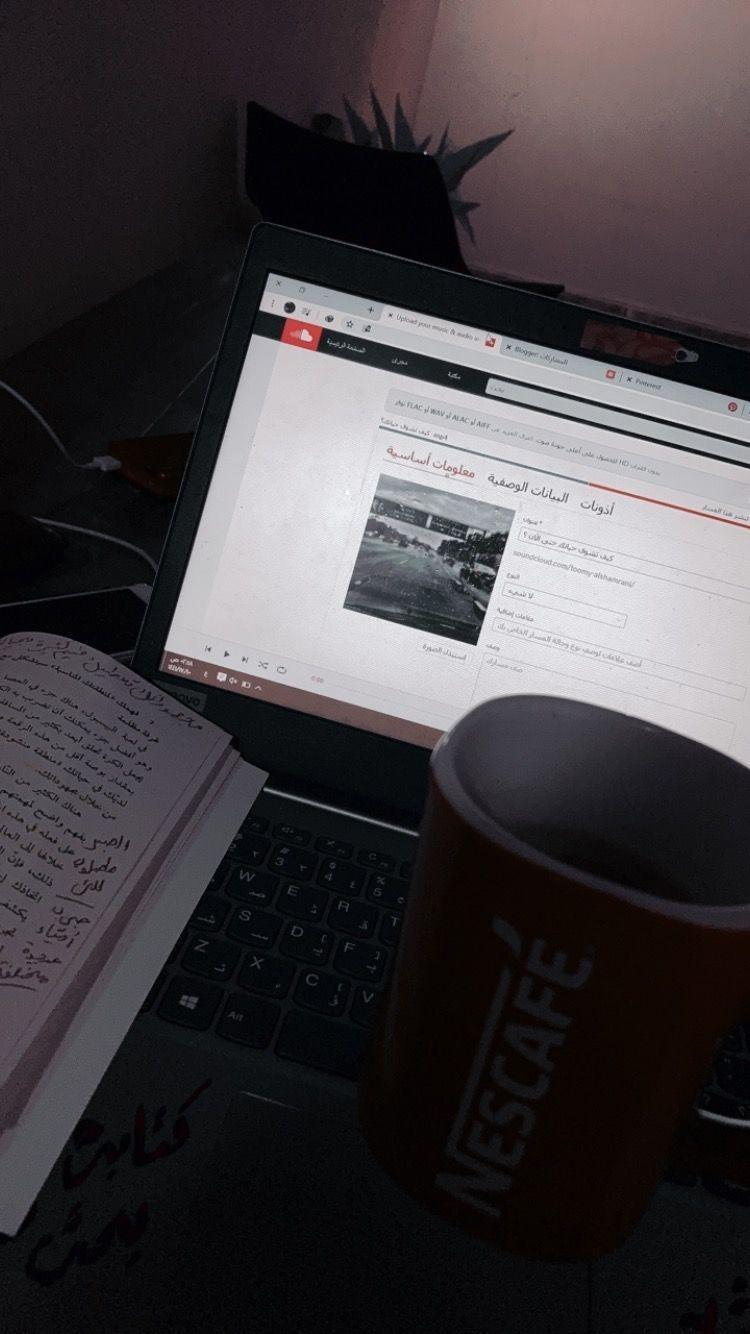cup-handle: (354, 692, 749, 1261)
